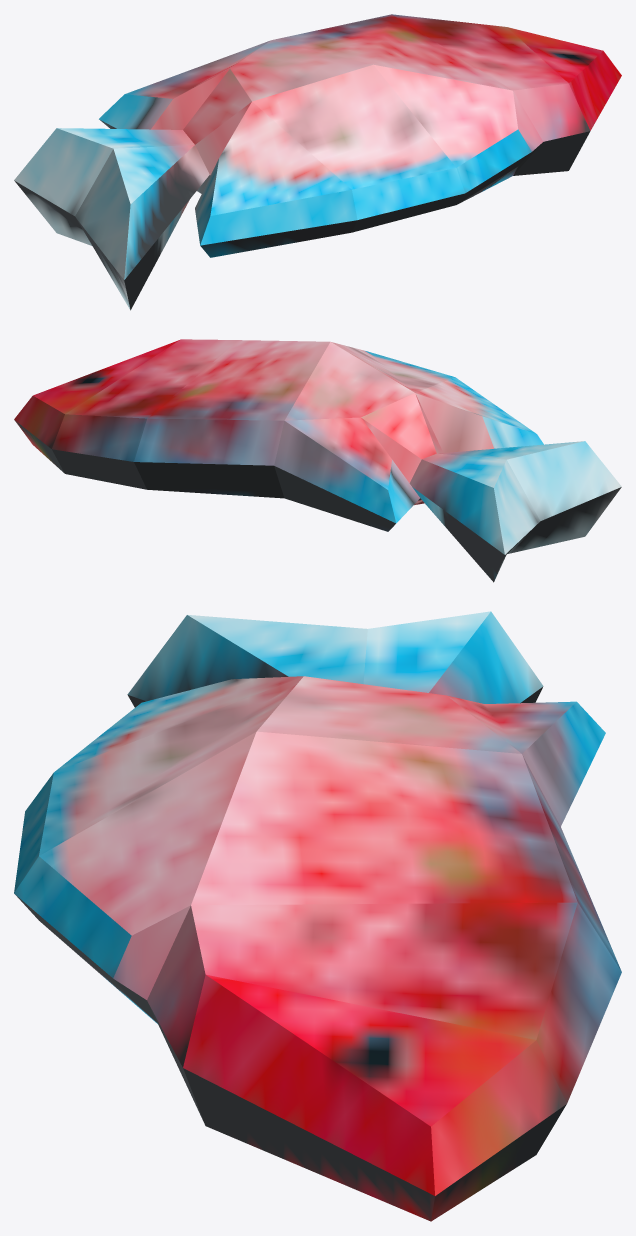
Rendered from soup-fish.glb.
The picture shows the model from 3 angles, top to bottom: view 1: azimuth 30°, elevation 25°; view 2: azimuth 150°, elevation 25°; view 3: azimuth 270°, elevation 25°; orthographic projection. The views are drawn at different scales.
Parts seen in each view (by area): view 1: soup-fish; view 2: soup-fish; view 3: soup-fish.
Boxes of the visible parts, x1,y1,x2,y2 form: soup-fish: (14,14,621,310); soup-fish: (14,339,621,582); soup-fish: (14,611,621,1221).
Size of the model in its own units: 0.5153 by 0.1403 by 0.2671.
Materials: 1 (1 with a texture image).
